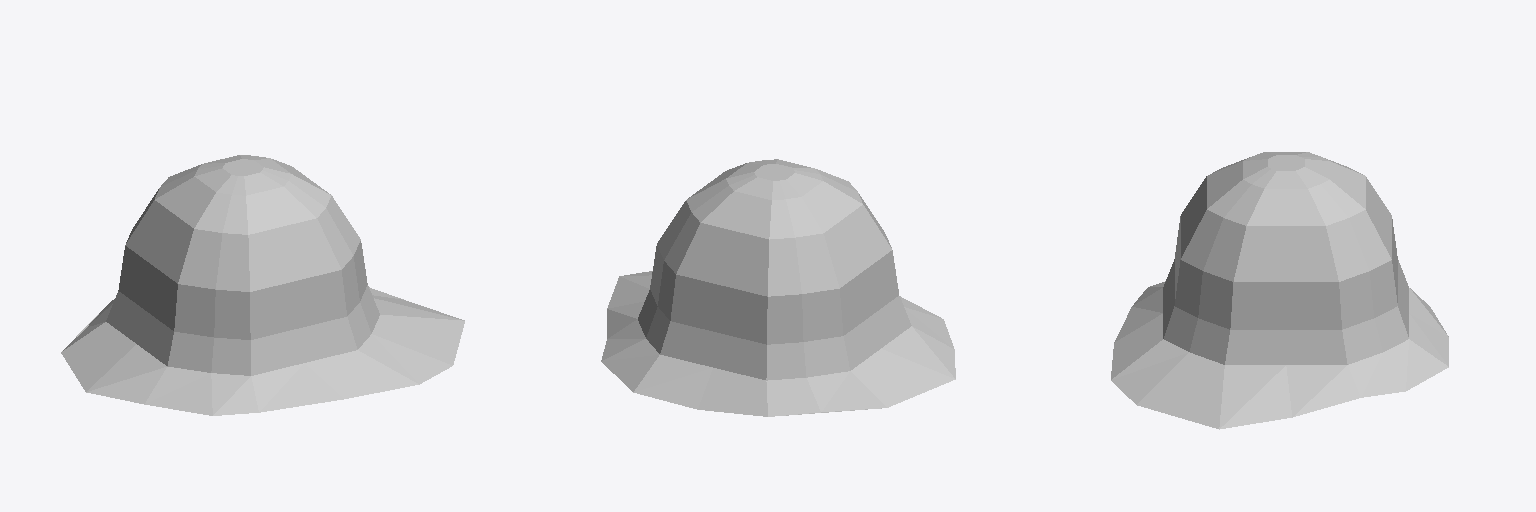
Rendered from PowerUp_Confused_lapu.obj.
The picture shows the model from 3 angles: view 1: azimuth 30°, elevation 25°; view 2: azimuth 150°, elevation 25°; view 3: azimuth 270°, elevation 25°; orthographic projection.
Visible parts, largest first — view 1: Plane; view 2: Plane; view 3: Plane.
Part boxes in pixels (x1,y1,x2,y2): Plane: (61, 155, 464, 415); Plane: (601, 159, 955, 416); Plane: (1111, 152, 1448, 429).
Size of the model in its own units: 2.38 by 1.12 by 1.95.